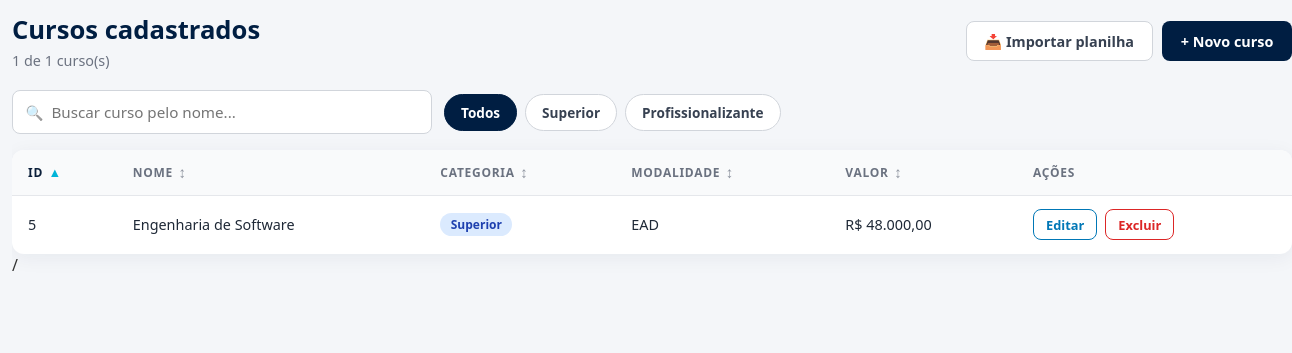
lista de Cursos › erro na exclusão sem mensagem do servidor mostra um texto padrão
Click the button "Excluir" at (1140, 225), box [1105,209,1174,240]
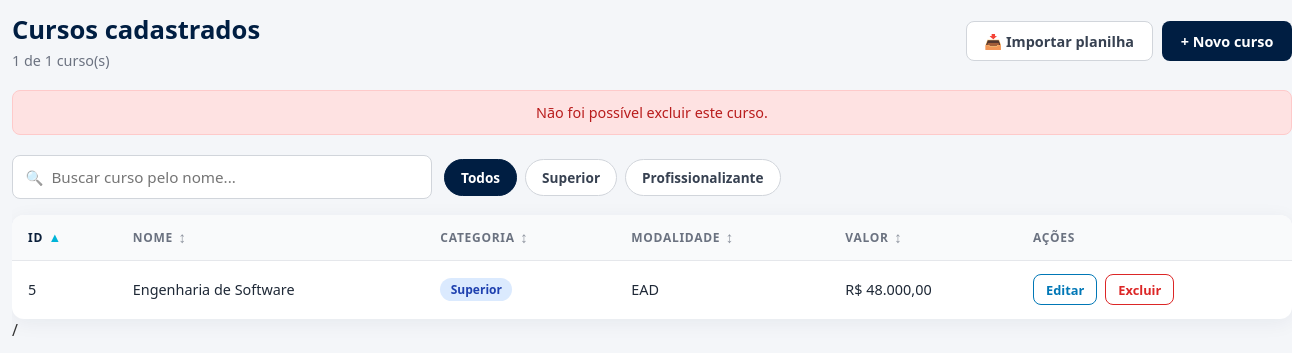
Expected: the text "Não foi possível excluir este curso." is shown, [12,90,1291,135]
